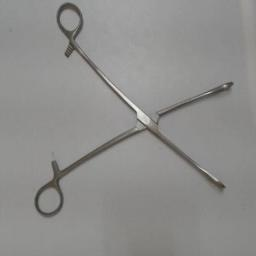Sponge Forceps: (32, 1, 240, 221)
